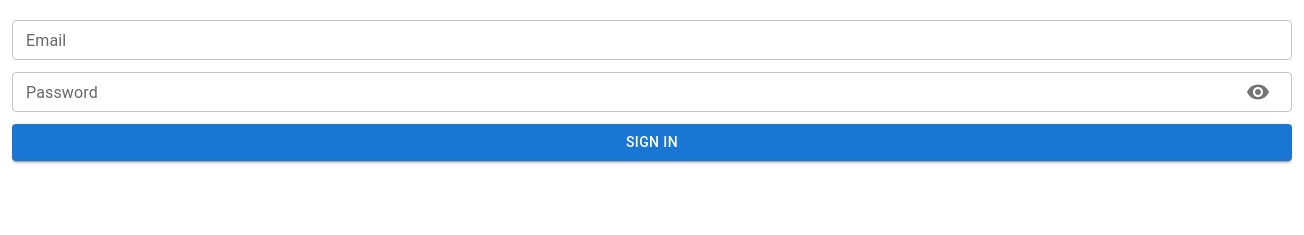
Test case: Auth Form component › should display error if email is invalid
This screenshot has width=1304, height=235.
Type "invalid-email" into the field labelled "Email" at [652, 40], box x1=12 y1=20 x2=1292 y2=60
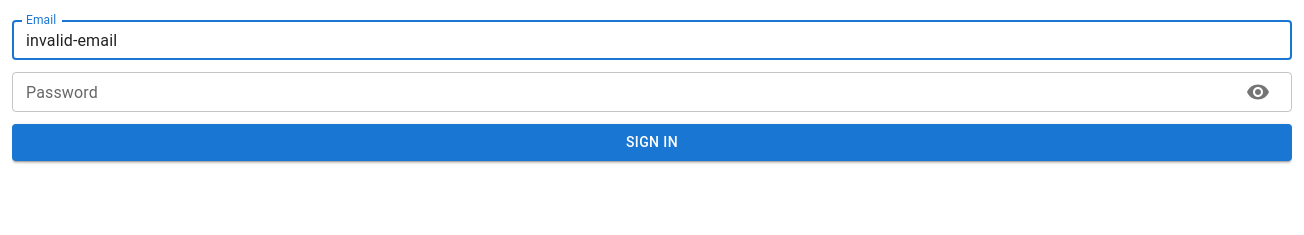
Click the button "Sign In" at [652, 142], box x1=12 y1=124 x2=1292 y2=160
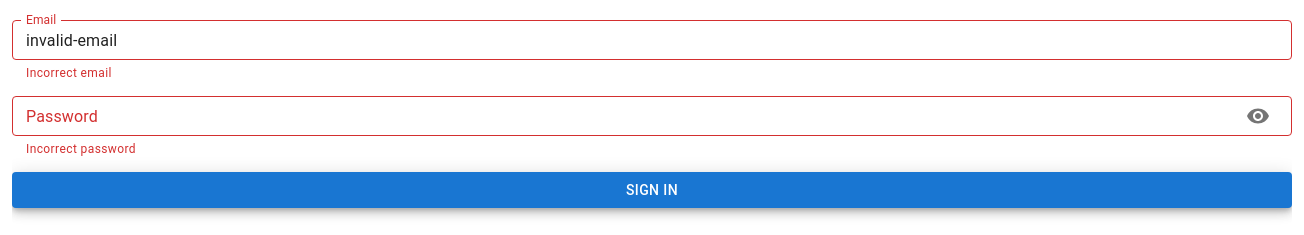
Expected: the text "Incorrect email" is shown, x1=26 y1=66 x2=112 y2=80
